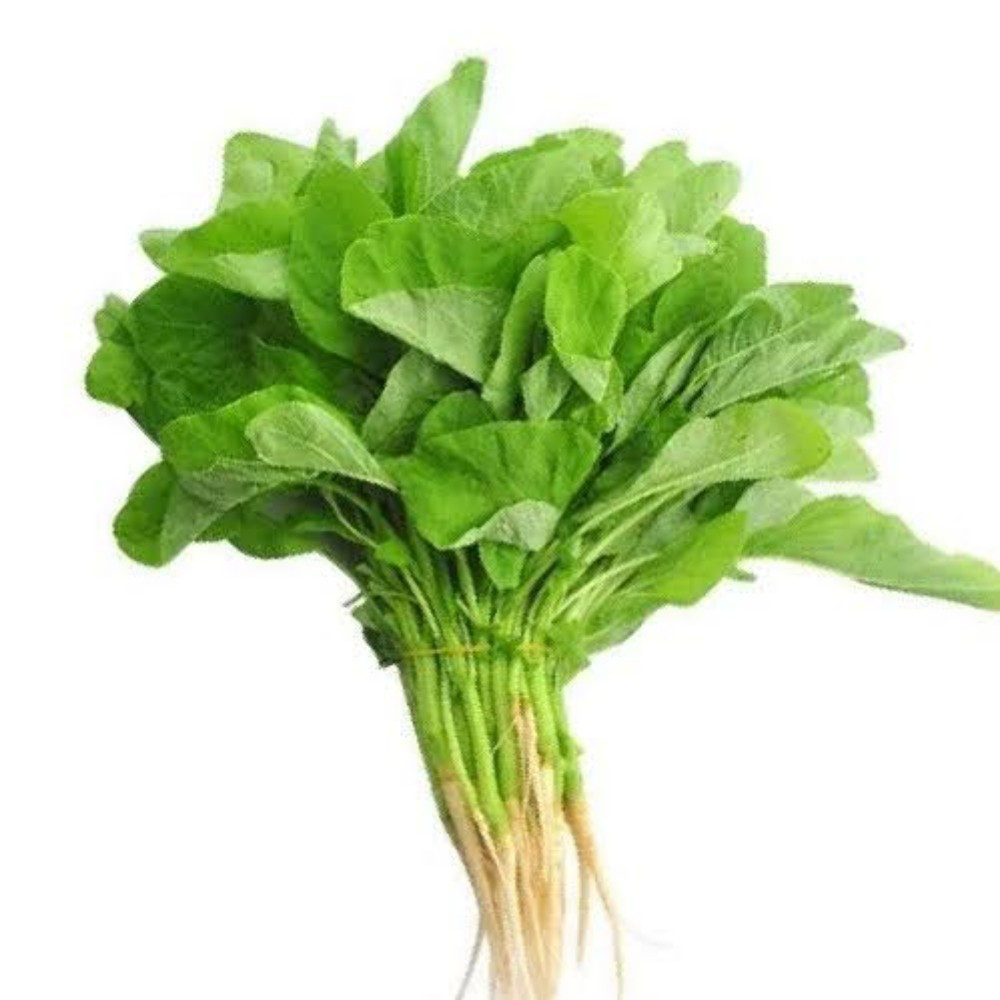Bayam: (30, 27, 994, 1000)
